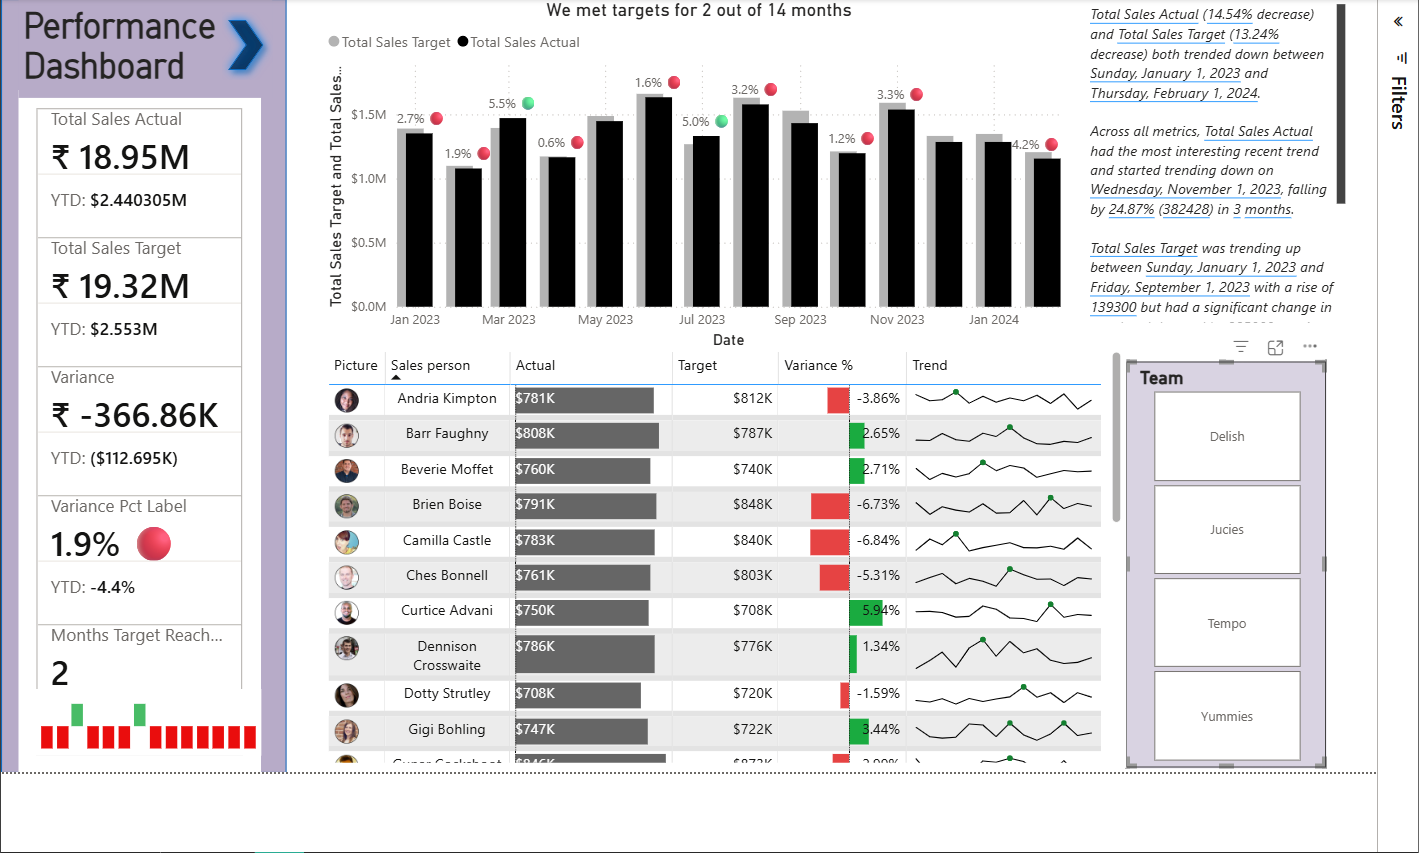

The dashboard page shown, as its layout file describes it:
{"tool":"powerbi","page":{"name":"Page 1","canvas":[1280,720],"ordinal":0},"visuals":[{"type":"shape","box":[0,0,265.7,720],"z":0},{"type":"cardVisual","fields":{"Data":["Actual.Total Sales Actual","Targets.Total Sales Target","Actual.Variance","Actual.Variance Pct Label","Actual.Months Target Reached"]},"box":[16.4,84.9,226,635.1],"z":1000},{"type":"columnChart","fields":{"Category":["Calendar.Date"],"Y":["Actual.Target Status"]},"box":[32.7,642.1,209.6,61.6],"z":1001},{"type":"clusteredColumnChart","fields":{"Category":["Calendar.Date"],"Y":["Targets.Total Sales Target","Actual.Total Sales Actual"]},"box":[299,0,701,330],"z":1002},{"type":"slicer","fields":{"Values":["dimPeople.Team"]},"box":[1047,337,186,378],"z":1003},{"type":"tableEx","fields":{"Values":["dimPeople.Picture","dimPeople.Sales person","Actual.Total Sales Actual","Targets.Total Sales Target","Actual.Variance %","SparklineData(Targets.Total Sales Target_[Calendar.Date])"]},"box":[299,323,748,392],"z":1004},{"type":"textbox","box":[1008,0,247,306],"z":1006},{"type":"textbox","box":[16.4,0,236.1,91.9],"z":1007},{"type":"shape","box":[201.8,10.1,50.6,64.7],"z":1008}]}

Visuals, with their boxes on the page's 1280x720 design canvas (x1, y1, x2, y2). These are canvas units, not pixel positions in the 1419x853 screenshot, which may show the page scaled, cropped or inside an application window:
shape: <bbox>0, 0, 266, 720</bbox>
cardVisual - Actual.Total Sales Actual x Targets.Total Sales Target: <bbox>16, 85, 242, 720</bbox>
columnChart - Calendar.Date x Actual.Target Status: <bbox>33, 642, 242, 704</bbox>
clusteredColumnChart - Calendar.Date x Targets.Total Sales Target: <bbox>299, 0, 1000, 330</bbox>
slicer - dimPeople.Team: <bbox>1047, 337, 1233, 715</bbox>
tableEx - dimPeople.Picture x dimPeople.Sales person: <bbox>299, 323, 1047, 715</bbox>
textbox: <bbox>1008, 0, 1255, 306</bbox>
textbox: <bbox>16, 0, 252, 92</bbox>
shape: <bbox>202, 10, 252, 75</bbox>
